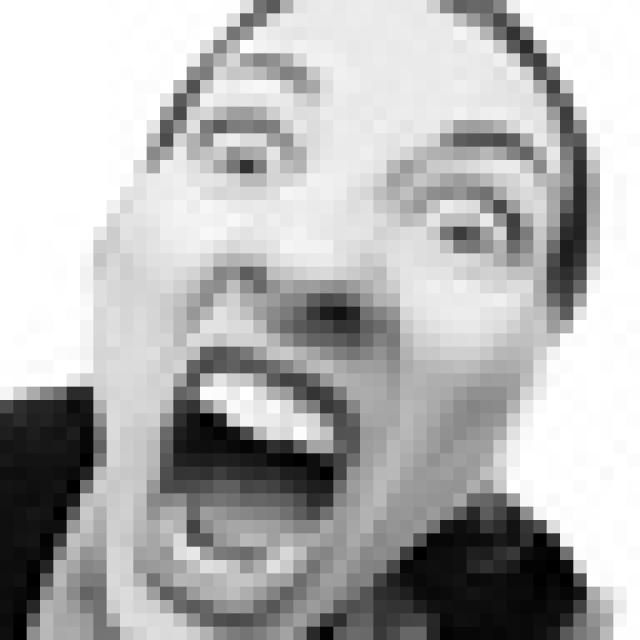angry: (132, 52, 552, 640)
